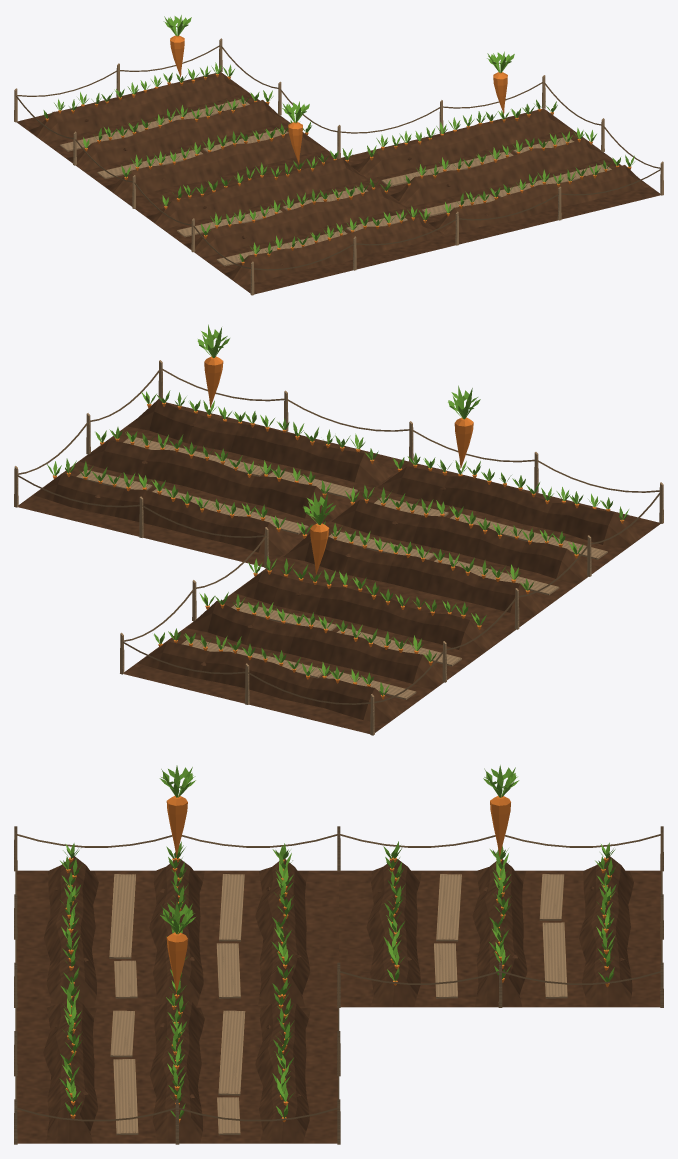
File: example-L_LOD0.glb
3 views of the same model, one above another, from view 1: azimuth 30°, elevation 25°; view 2: azimuth 150°, elevation 25°; view 3: azimuth 270°, elevation 25° (orthographic). The views are drawn at different scales.
Visible parts, largest first — view 1: sol_000_LOD0, sol_126_LOD0, sol_063_LOD0, butte_144_LOD0, butte_035_LOD0, butte_098_LOD0, butte_161_LOD0, butte_081_LOD0, butte_018_LOD0, butte_001_LOD0, butte_127_LOD0, butte_064_LOD0 (+11 smaller); view 2: sol_063_LOD0, sol_126_LOD0, sol_000_LOD0, butte_001_LOD0, butte_127_LOD0, butte_064_LOD0, butte_018_LOD0, butte_081_LOD0, butte_098_LOD0, butte_144_LOD0, butte_161_LOD0, butte_035_LOD0 (+13 smaller); view 3: sol_063_LOD0, sol_000_LOD0, sol_126_LOD0, butte_098_LOD0, butte_064_LOD0, butte_161_LOD0, butte_144_LOD0, butte_127_LOD0, butte_001_LOD0, butte_081_LOD0, butte_035_LOD0, butte_018_LOD0 (+15 smaller).
Part boxes in pixels (left/top/right/bottom): sol_000_LOD0: left=135, top=158, right=455, bottom=294; sol_126_LOD0: left=341, top=108, right=660, bottom=244; sol_063_LOD0: left=16, top=72, right=337, bottom=207; butte_144_LOD0: left=390, top=139, right=608, bottom=207; butte_035_LOD0: left=146, top=158, right=367, bottom=229; butte_098_LOD0: left=29, top=74, right=246, bottom=142; butte_161_LOD0: left=351, top=110, right=571, bottom=178; butte_081_LOD0: left=67, top=100, right=287, bottom=171; butte_018_LOD0: left=184, top=188, right=405, bottom=257; butte_001_LOD0: left=224, top=217, right=442, bottom=285; butte_127_LOD0: left=429, top=165, right=649, bottom=236; butte_064_LOD0: left=105, top=132, right=325, bottom=198; sol_063_LOD0: left=124, top=568, right=515, bottom=733; sol_126_LOD0: left=18, top=402, right=409, bottom=566; sol_000_LOD0: left=270, top=462, right=660, bottom=628; butte_001_LOD0: left=377, top=466, right=645, bottom=548; butte_127_LOD0: left=127, top=399, right=395, bottom=487; butte_064_LOD0: left=234, top=570, right=500, bottom=655; butte_018_LOD0: left=331, top=499, right=597, bottom=584; butte_081_LOD0: left=186, top=600, right=454, bottom=689; butte_098_LOD0: left=138, top=641, right=406, bottom=723; butte_144_LOD0: left=80, top=440, right=347, bottom=522; butte_161_LOD0: left=34, top=473, right=299, bottom=558; butte_035_LOD0: left=283, top=533, right=551, bottom=618; sol_063_LOD0: left=339, top=870, right=660, bottom=1007; sol_000_LOD0: left=16, top=870, right=338, bottom=1007; sol_126_LOD0: left=16, top=1007, right=337, bottom=1143; butte_098_LOD0: left=579, top=856, right=633, bottom=1006; butte_064_LOD0: left=366, top=859, right=421, bottom=1006; butte_161_LOD0: left=255, top=995, right=310, bottom=1142; butte_144_LOD0: left=149, top=992, right=204, bottom=1142; butte_127_LOD0: left=43, top=995, right=97, bottom=1142; butte_001_LOD0: left=43, top=856, right=98, bottom=1006; butte_081_LOD0: left=472, top=858, right=527, bottom=1006; butte_035_LOD0: left=255, top=858, right=310, bottom=1006; butte_018_LOD0: left=149, top=859, right=204, bottom=1006.
Bounding box in the file's own units: 5.03 × 1.46 × 5.03.
4 materials, 2 textured.
